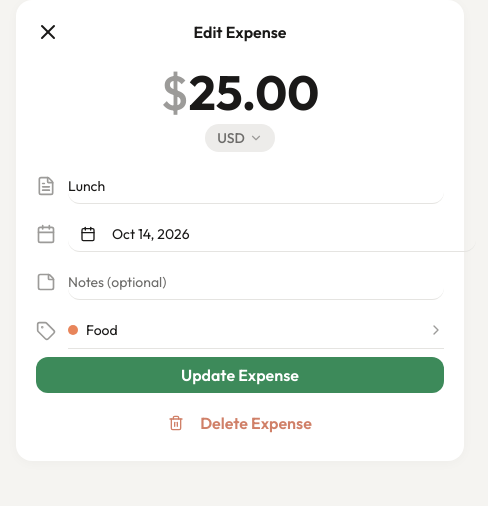
shows an inline error after an expense save fails, preserving its values
Click the button "Update Expense" at (240, 375), box [36,357,444,393]
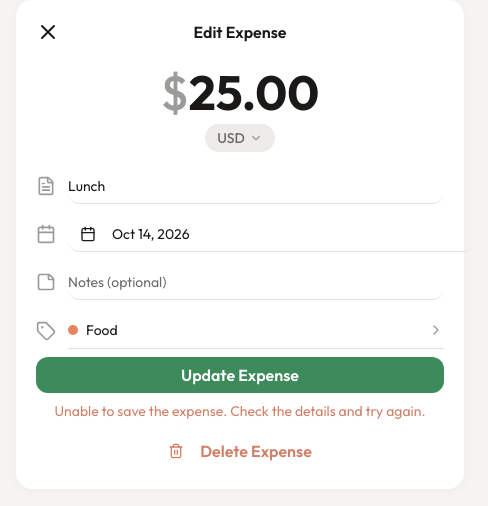
Expected: the message shows "Unable to save the expense", [54,402,426,420]
